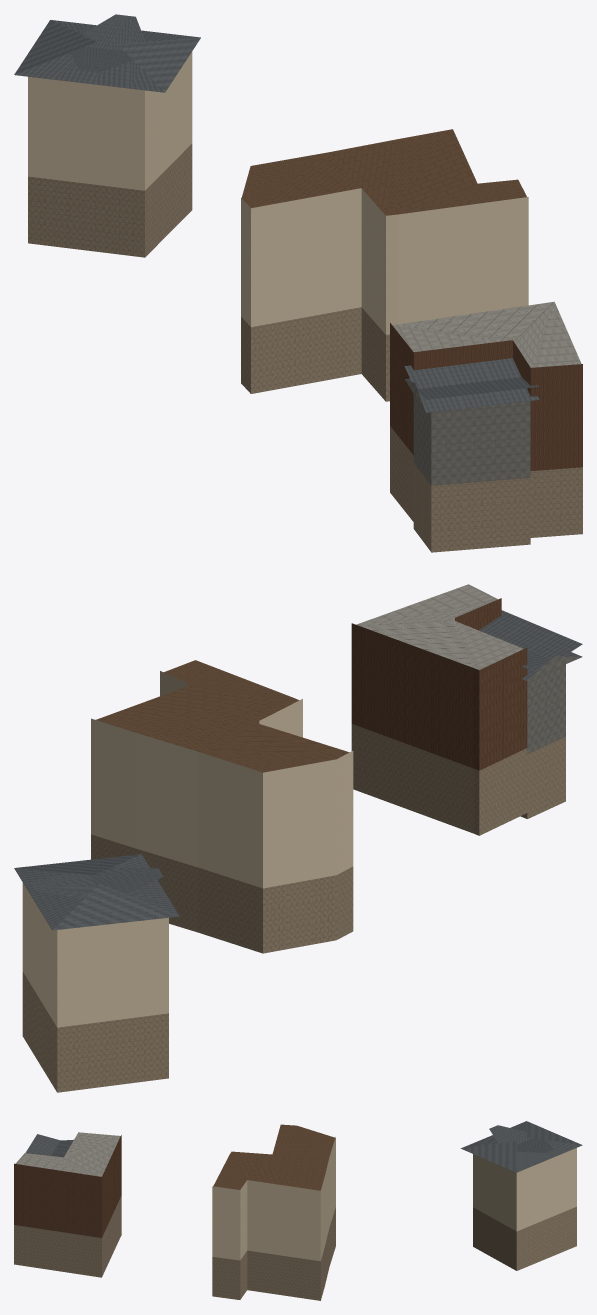
The model's file is bld_c40_33_294.gltf.
3 views of the same model, one above another, from view 1: azimuth 30°, elevation 25°; view 2: azimuth 150°, elevation 25°; view 3: azimuth 270°, elevation 25° (orthographic). The views are drawn at different scales.
Parts seen in each view (by area): view 1: bld_c40_33_294; view 2: bld_c40_33_294; view 3: bld_c40_33_294.
Part boxes in pixels (x1,y1,x2,y2): bld_c40_33_294: [14, 14, 582, 552]; bld_c40_33_294: [14, 584, 582, 1092]; bld_c40_33_294: [14, 1121, 582, 1300].
Size of the model in its own units: 21.25 by 14.9 by 66.4.
10 materials, 10 textured.
